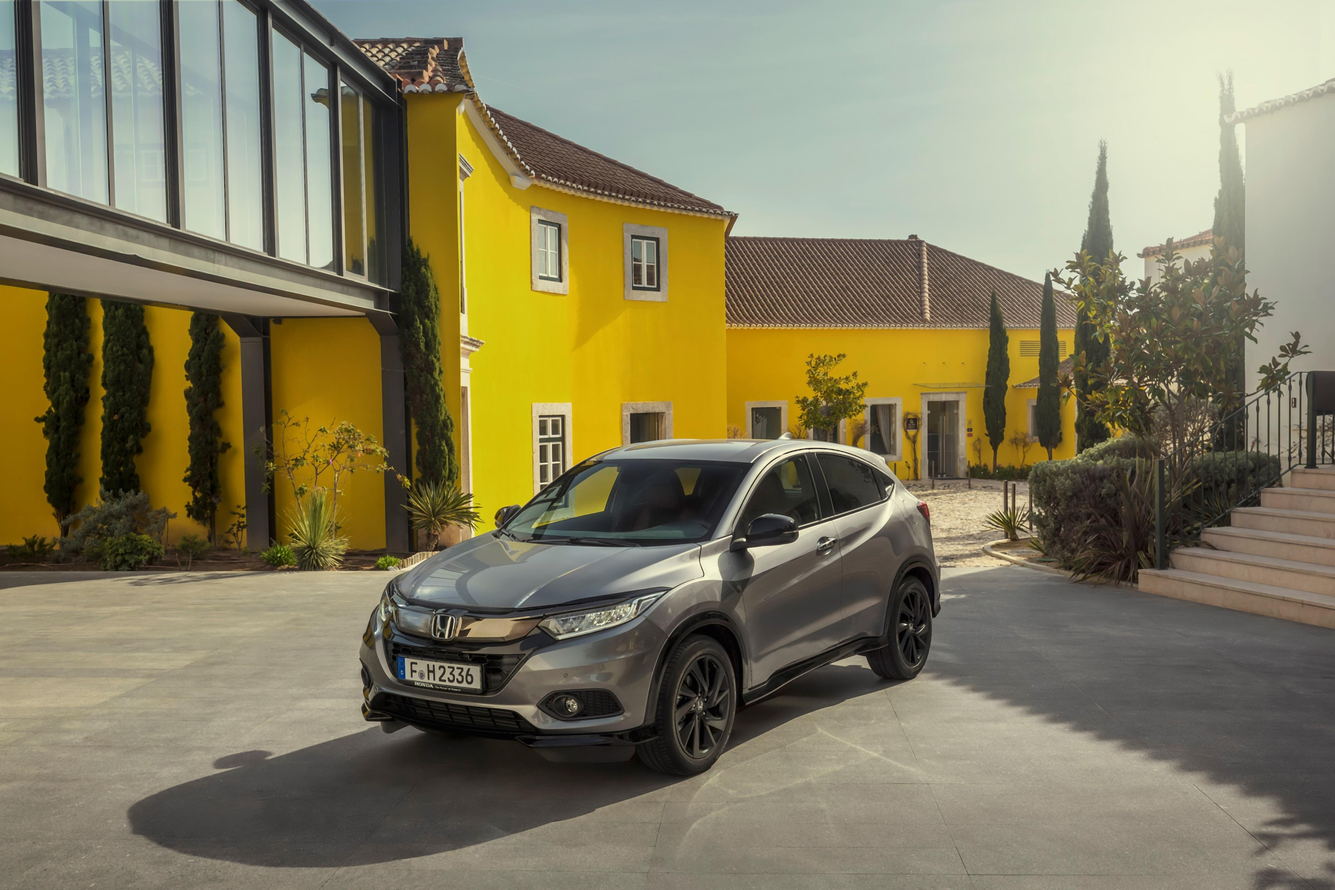Car hood: (388, 533, 708, 611)
Fender - -F-L-: (653, 537, 759, 718)
Fender - -R-L-: (868, 460, 943, 633)
Front bumper: (346, 611, 665, 745)
Headlight - -L-: (534, 585, 662, 642)
Headlight - -R-: (376, 578, 403, 620)
Passenger-s door - -F-L-: (728, 436, 852, 709)
Passenger-s door - -R-L-: (814, 431, 911, 671)
Rear light - -L-: (914, 494, 931, 533)
Side bumper - -L-: (738, 618, 892, 720)
Side mirror - -R-: (487, 501, 524, 531)
